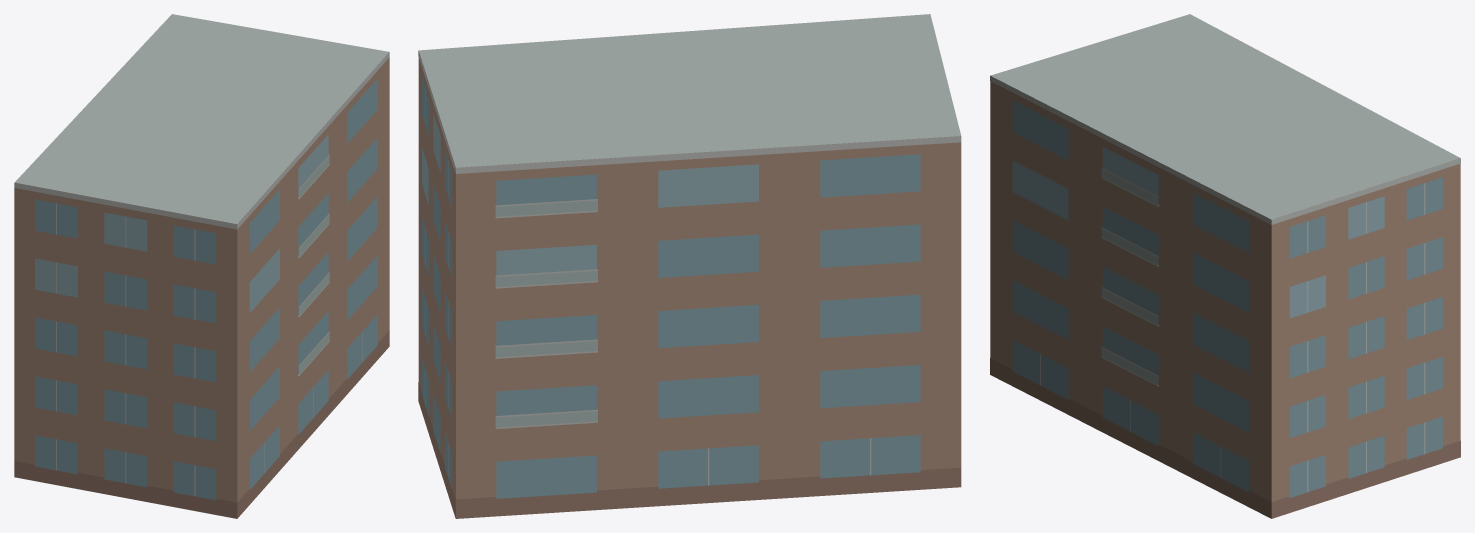
File: survey-upis-32877086.glb
3 views of the same model, side by side, from view 1: azimuth 30°, elevation 25°; view 2: azimuth 150°, elevation 25°; view 3: azimuth 270°, elevation 25° (orthographic). The views are drawn at different scales.
Parts seen in each view (by area): view 1: survey-upis-32877086.tmp; view 2: survey-upis-32877086.tmp; view 3: survey-upis-32877086.tmp.
Part boxes in pixels (box(x1,y1,x2,y2)): survey-upis-32877086.tmp: box(14, 14, 389, 518); survey-upis-32877086.tmp: box(418, 14, 961, 518); survey-upis-32877086.tmp: box(990, 14, 1460, 518).
Bounding box in the file's own units: 20.21 × 13.7 × 19.54.
